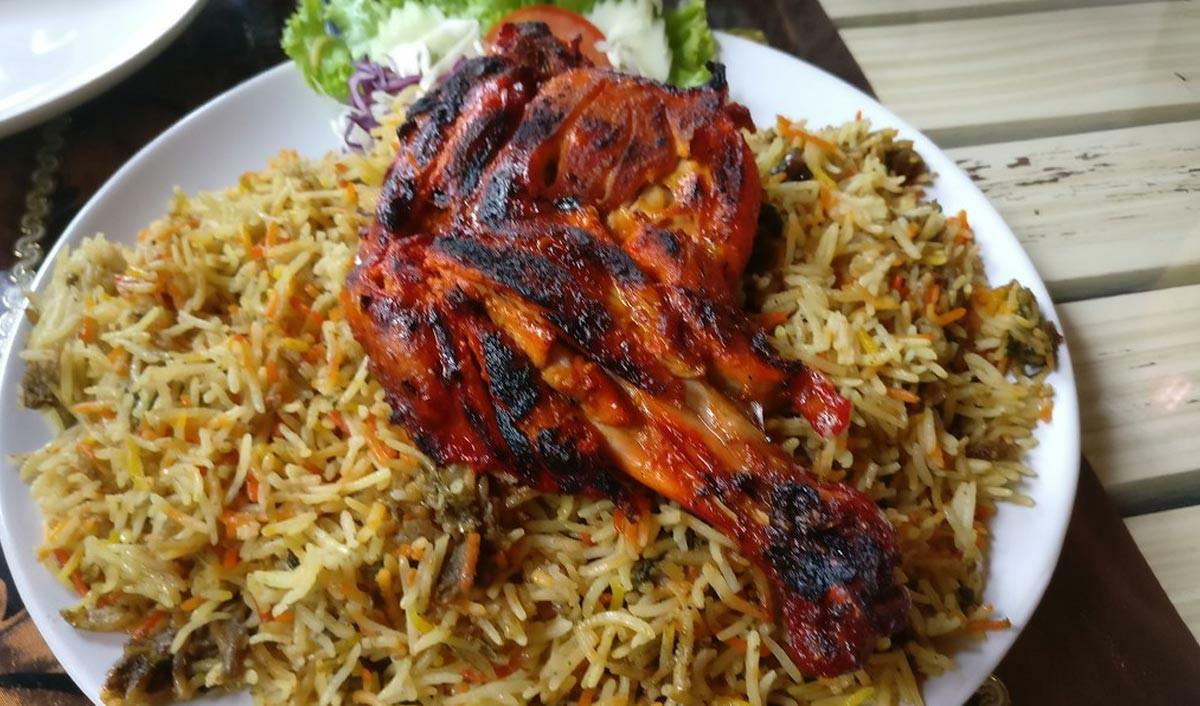Biryani: (21, 0, 1066, 706)
